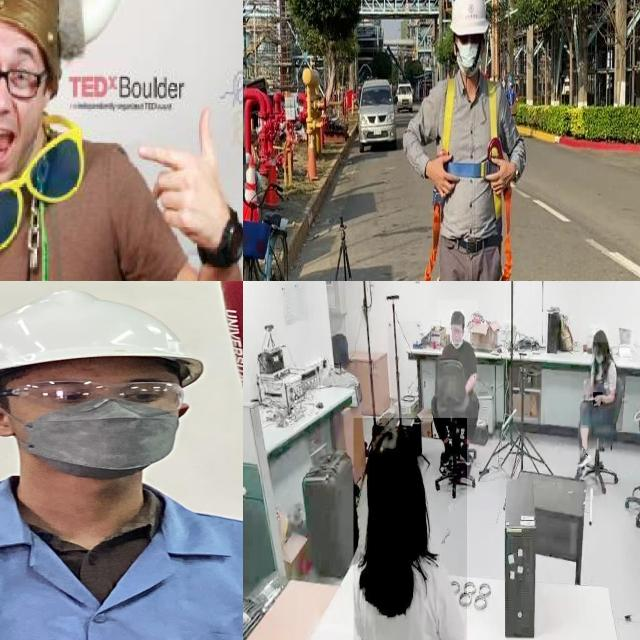Harness: (441, 78, 514, 281), (426, 190, 444, 281)
face_mask: (3, 378, 183, 475)
face_nomask: (0, 36, 42, 155), (451, 325, 463, 345)
glasses: (0, 108, 85, 252), (0, 374, 193, 415)
hand_noglove: (127, 96, 243, 255), (593, 392, 603, 406)
head_helmet: (0, 287, 213, 384), (0, 0, 129, 59)
head_nohelmet: (365, 423, 419, 471), (592, 328, 608, 343), (450, 310, 464, 324)
person: (0, 287, 243, 640), (0, 0, 243, 281), (353, 418, 467, 640), (0, 0, 75, 281), (571, 329, 618, 473), (438, 300, 478, 418)
shoes: (575, 442, 592, 473), (459, 442, 473, 468)
